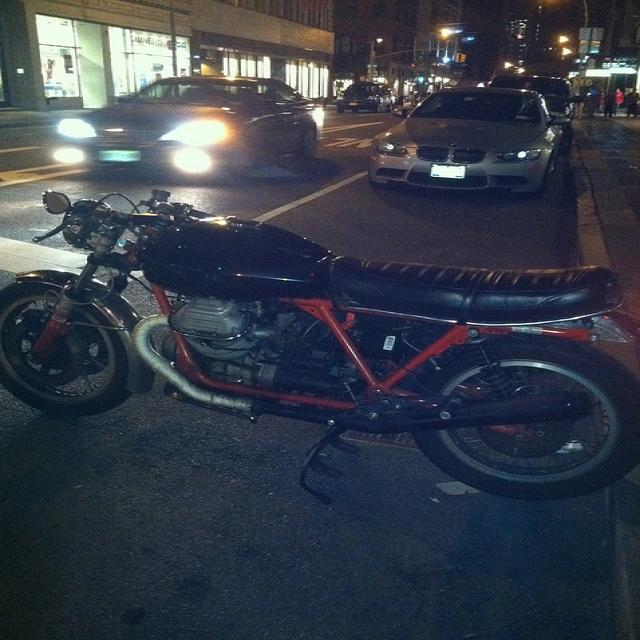motor: (0, 178, 635, 515)
